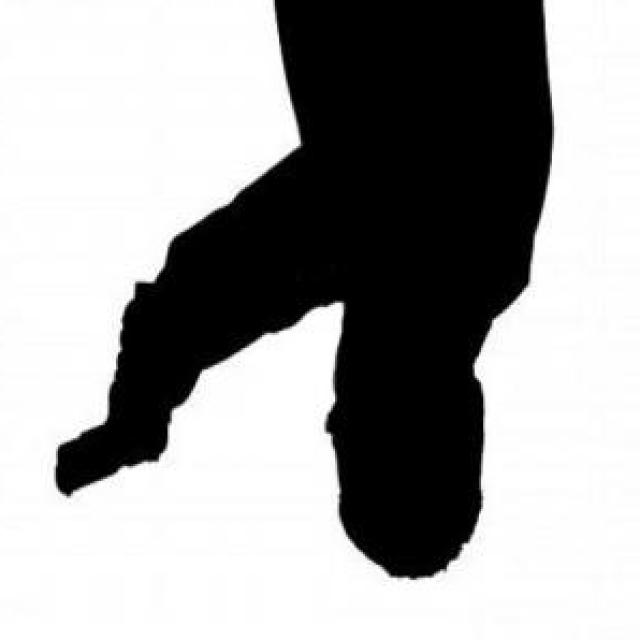pistol: (50, 324, 174, 507)
